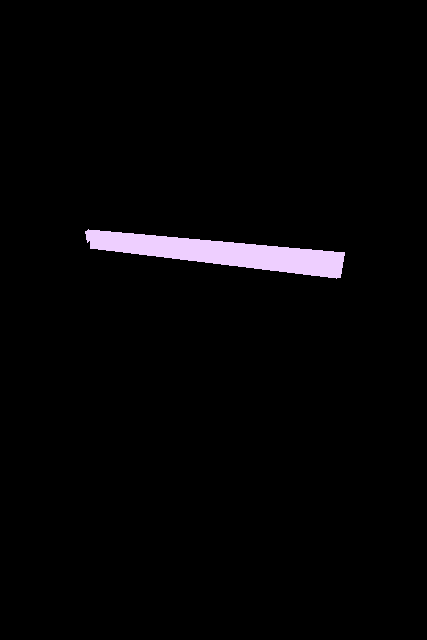Train: (85, 229, 344, 278)
